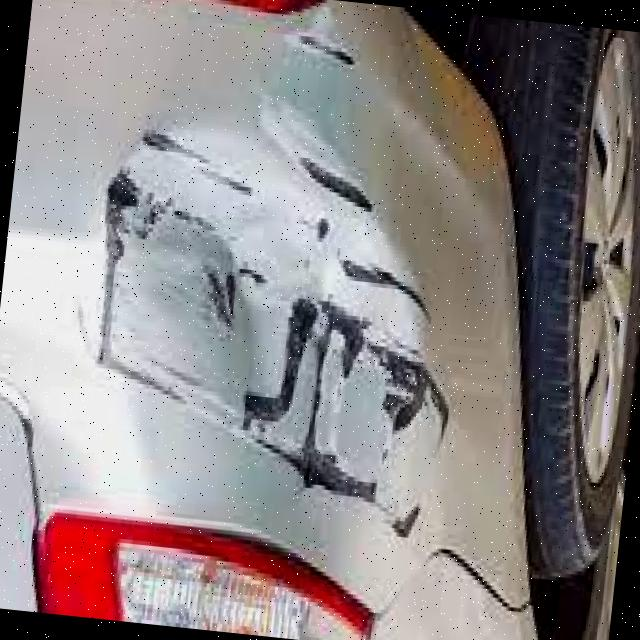Dent: (13, 44, 476, 576)
